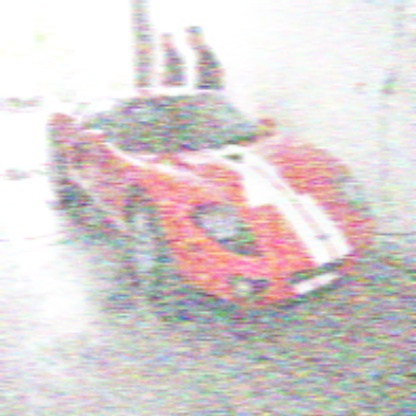Vehicle: (50, 85, 374, 318)
